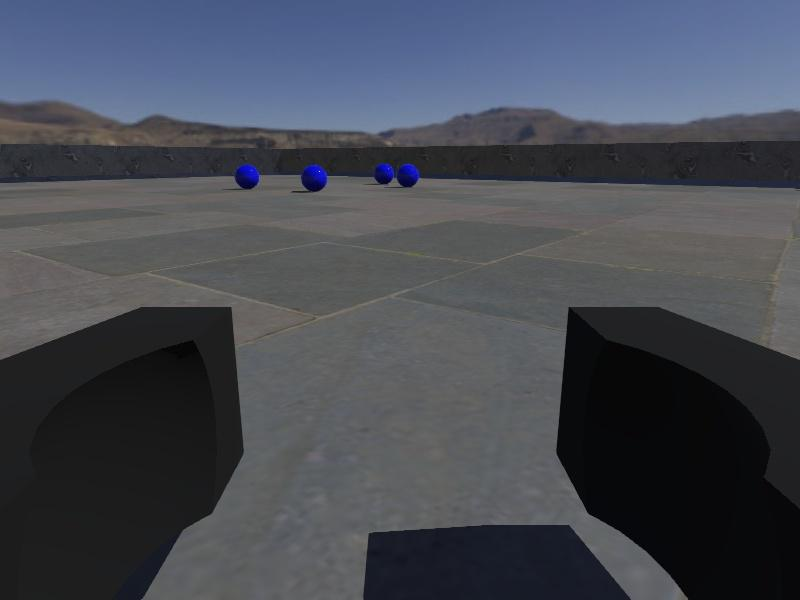blue ball: (301, 164, 328, 192), (234, 163, 260, 189), (396, 162, 419, 187), (373, 163, 395, 186)
